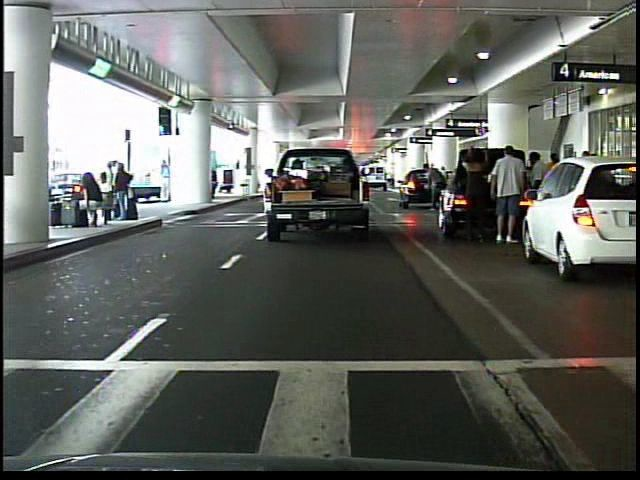person: (457, 139, 493, 246), (488, 142, 525, 245), (523, 145, 549, 247), (422, 158, 448, 213), (158, 158, 175, 202)
